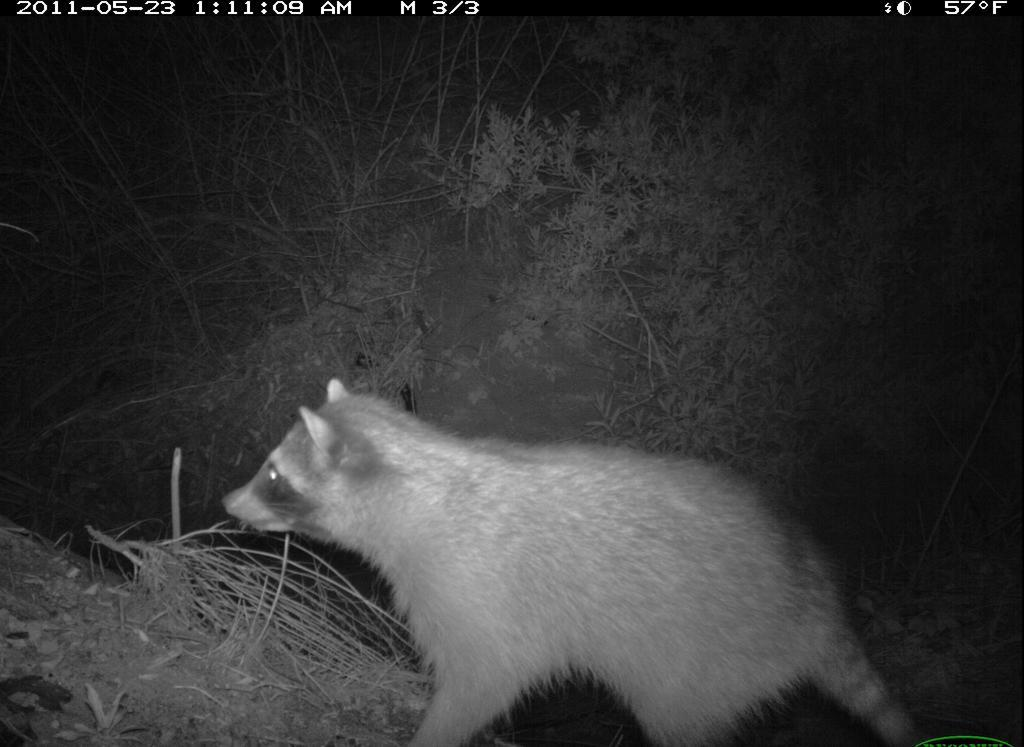raccoon: (219, 372, 935, 743)
